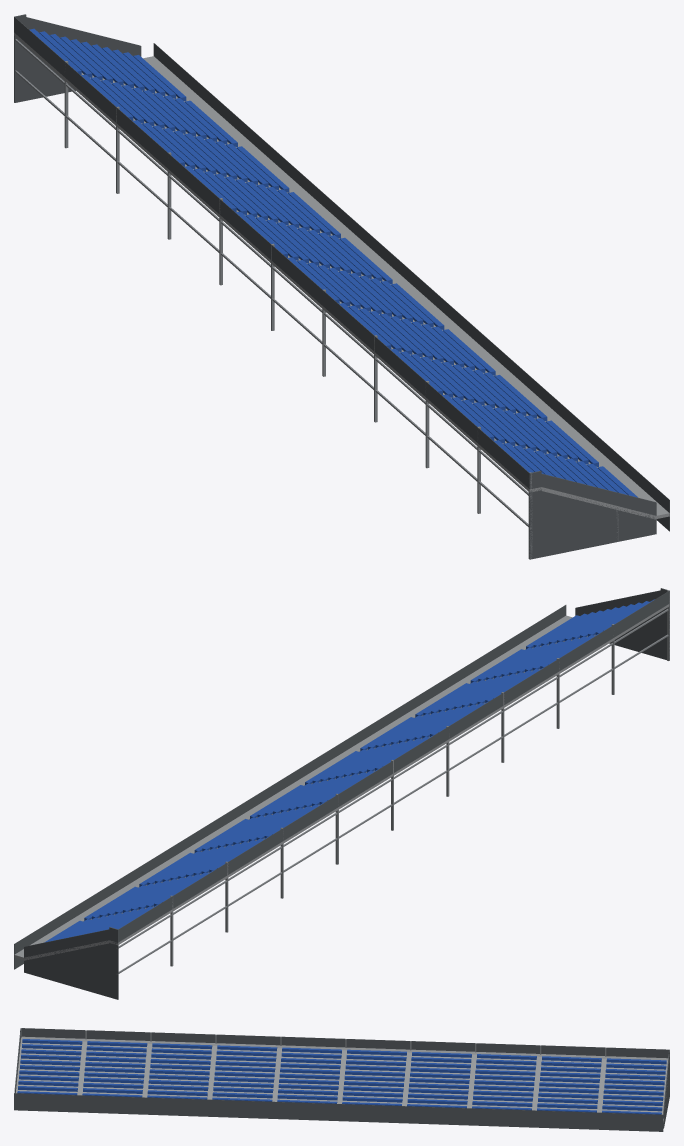
Rendered from mza_stand_piscina.glb.
3 views of the same model, one above another, from view 1: azimuth 30°, elevation 25°; view 2: azimuth 150°, elevation 25°; view 3: azimuth 270°, elevation 25° (orthographic). The views are drawn at different scales.
Visible parts, largest first — view 1: monza-piscina; view 2: monza-piscina; view 3: monza-piscina.
Boxes of the visible parts, x1=… form: monza-piscina: x1=14, y1=14, x2=669, y2=559; monza-piscina: x1=14, y1=588, x2=669, y2=999; monza-piscina: x1=14, y1=1028, x2=669, y2=1131.
Bounding box in the file's own units: 17.2 × 6.56 × 83.38.
